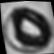correct: (0, 1, 53, 54)
